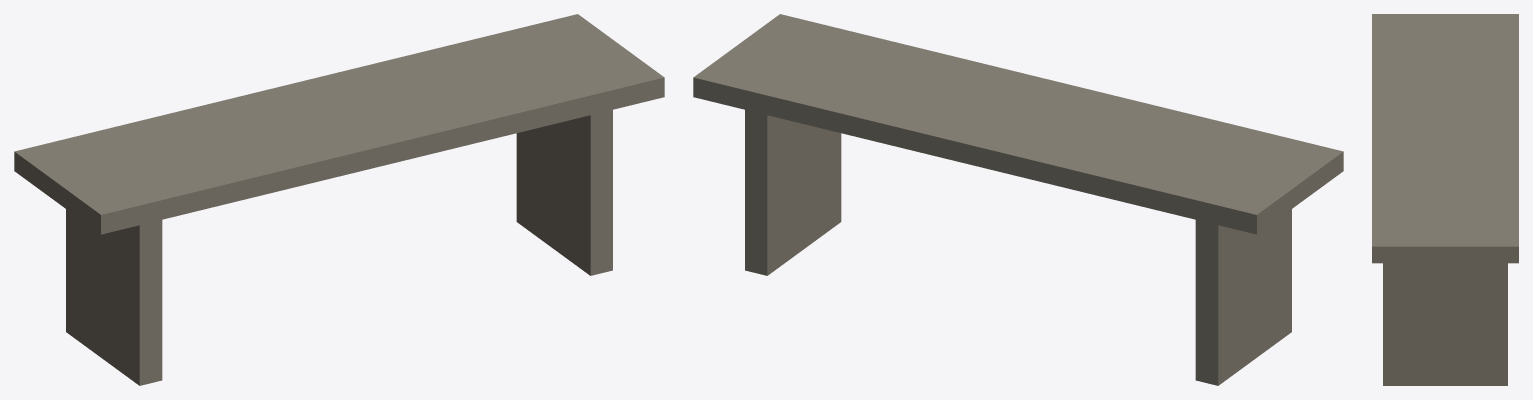
Rendered from GH_Bench_01.glb.
3 views of the same model, side by side, from view 1: azimuth 30°, elevation 25°; view 2: azimuth 150°, elevation 25°; view 3: azimuth 270°, elevation 25° (orthographic). The views are drawn at different scales.
Parts seen in each view (by area): view 1: GH_Bench_01; view 2: GH_Bench_01; view 3: GH_Bench_01.
Part boxes in pixels (x1,y1,x2,y2): GH_Bench_01: [14, 14, 664, 385]; GH_Bench_01: [693, 14, 1343, 385]; GH_Bench_01: [1372, 14, 1518, 385].
Bounding box in the file's own units: 1.5 × 0.475 × 0.4.
1 material, 1 textured.
